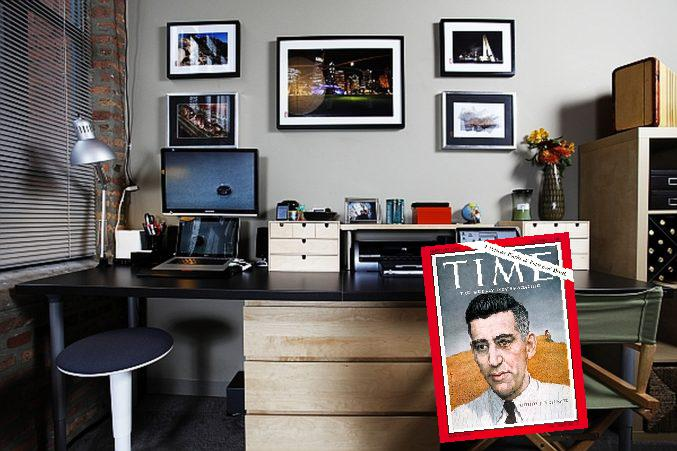times: (420, 231, 590, 444)
